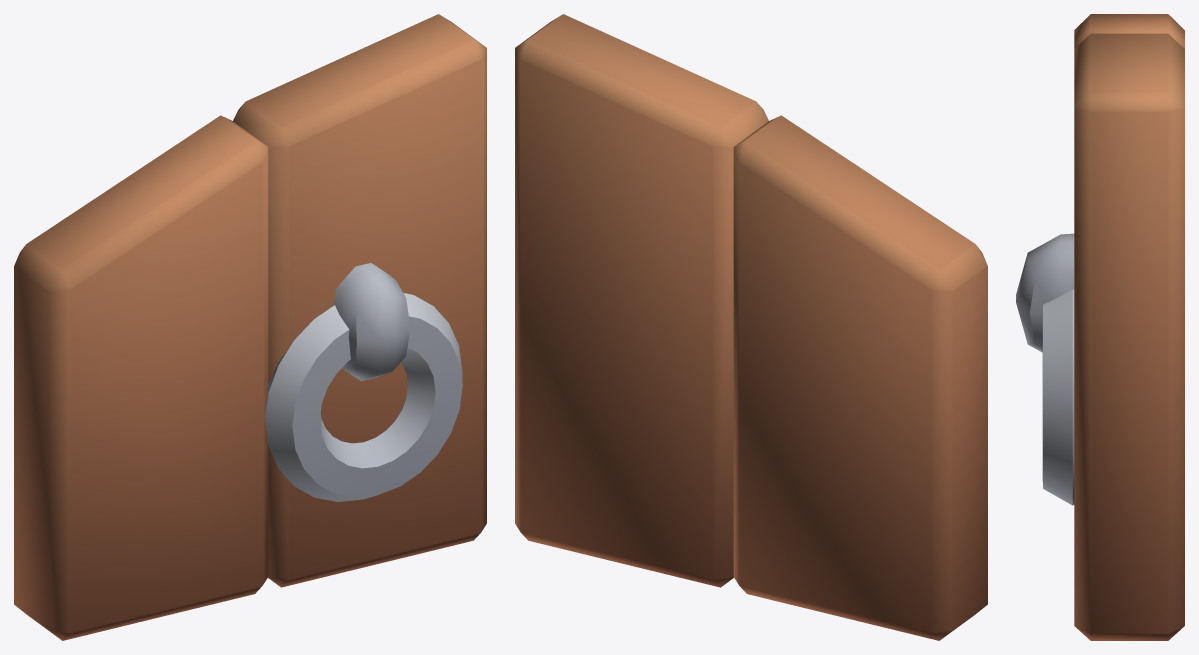
Rendered from Gate Double Left.glb.
The picture shows the model from 3 angles, left to right: view 1: azimuth 30°, elevation 25°; view 2: azimuth 150°, elevation 25°; view 3: azimuth 270°, elevation 25°; orthographic projection. The views are drawn at different scales.
Visible parts, largest first — view 1: gate_double_left; view 2: gate_double_left; view 3: gate_double_left.
Part boxes in pixels (<box>): gate_double_left: <box>14,14,486,640</box>; gate_double_left: <box>515,14,987,640</box>; gate_double_left: <box>1016,14,1184,640</box>.
Size of the model in its own units: 1 by 1.09 by 0.3051.
Materials: 1 (1 with a texture image).
